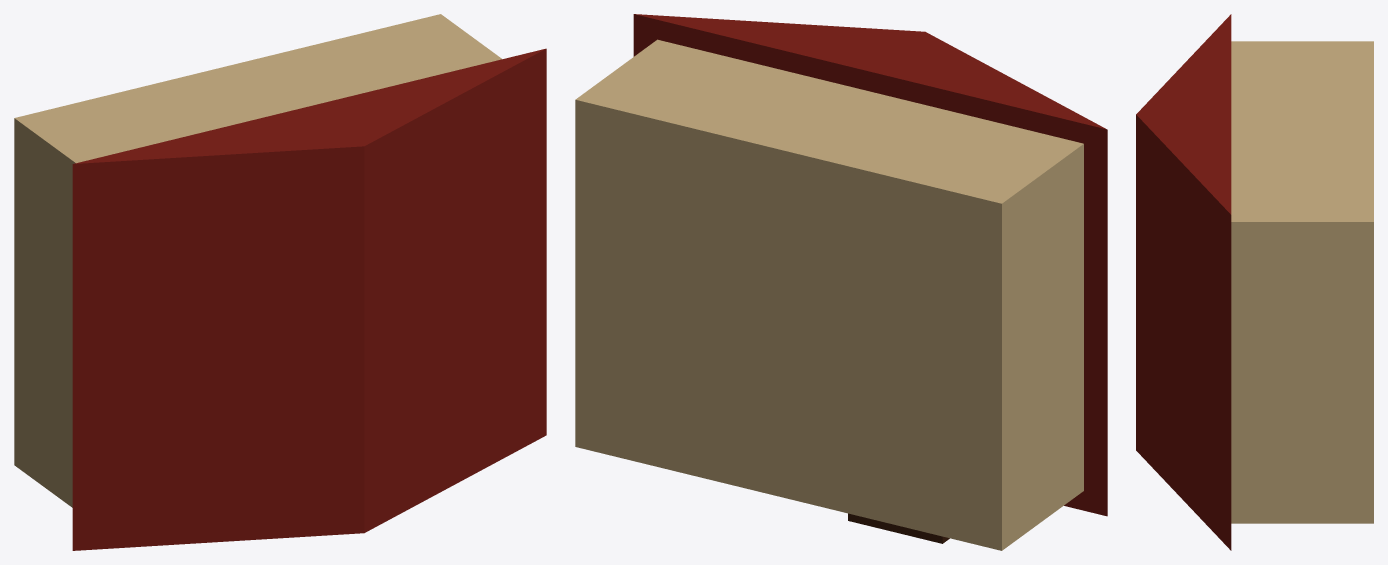
File: house.obj
3 views of the same model, side by side, from view 1: azimuth 30°, elevation 25°; view 2: azimuth 150°, elevation 25°; view 3: azimuth 270°, elevation 25° (orthographic). The views are drawn at different scales.
Parts seen in each view (by area): view 1: triangular_prism_roof, house_body; view 2: house_body, triangular_prism_roof, front_door; view 3: house_body, triangular_prism_roof.
Part boxes in pixels (bbox=[...]): triangular_prism_roof: bbox=[72, 48, 546, 550]; house_body: bbox=[14, 14, 502, 507]; house_body: bbox=[575, 39, 1083, 550]; triangular_prism_roof: bbox=[633, 14, 1107, 516]; front_door: bbox=[848, 513, 949, 543]; house_body: bbox=[1231, 41, 1373, 523]; triangular_prism_roof: bbox=[1136, 14, 1231, 550].
Size of the model in its own units: 2 by 1.56 by 1.
